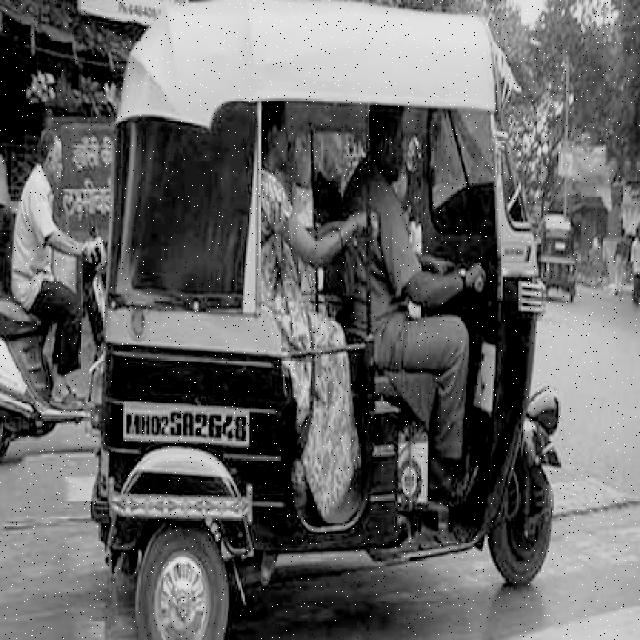Auto-Rickshaw: (87, 0, 564, 638)
